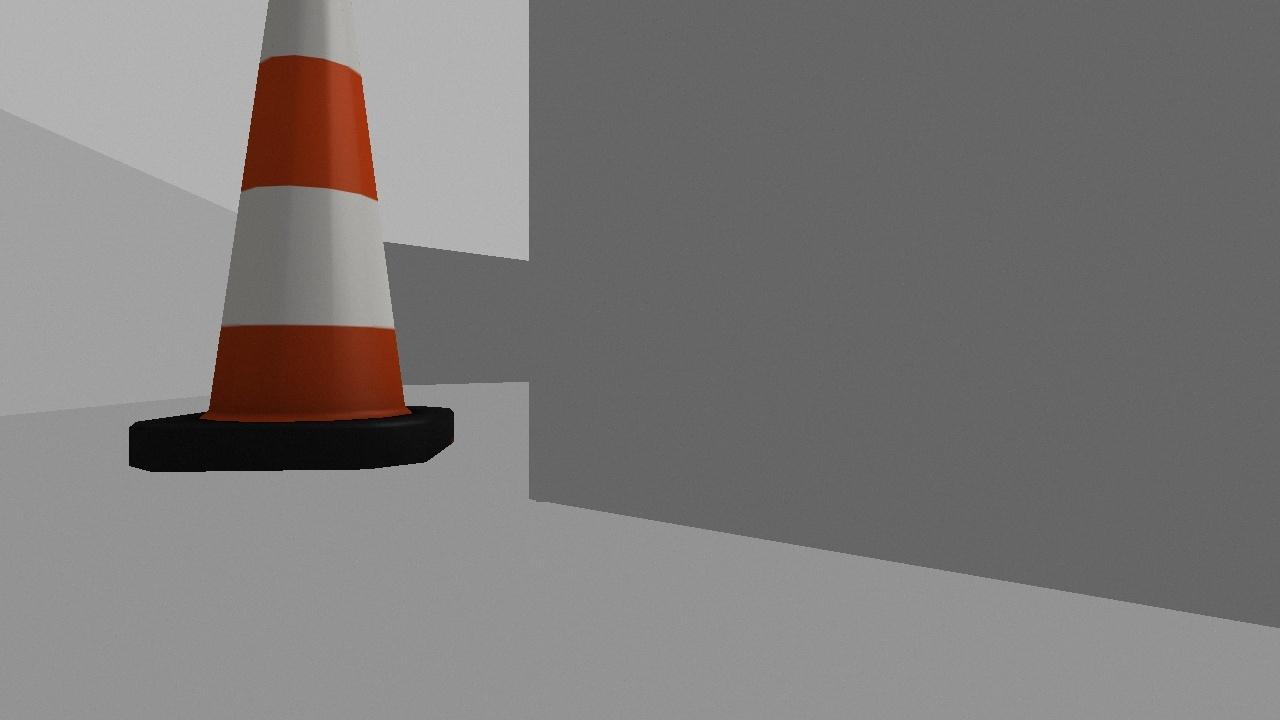cone_barrel: (127, 0, 453, 471)
